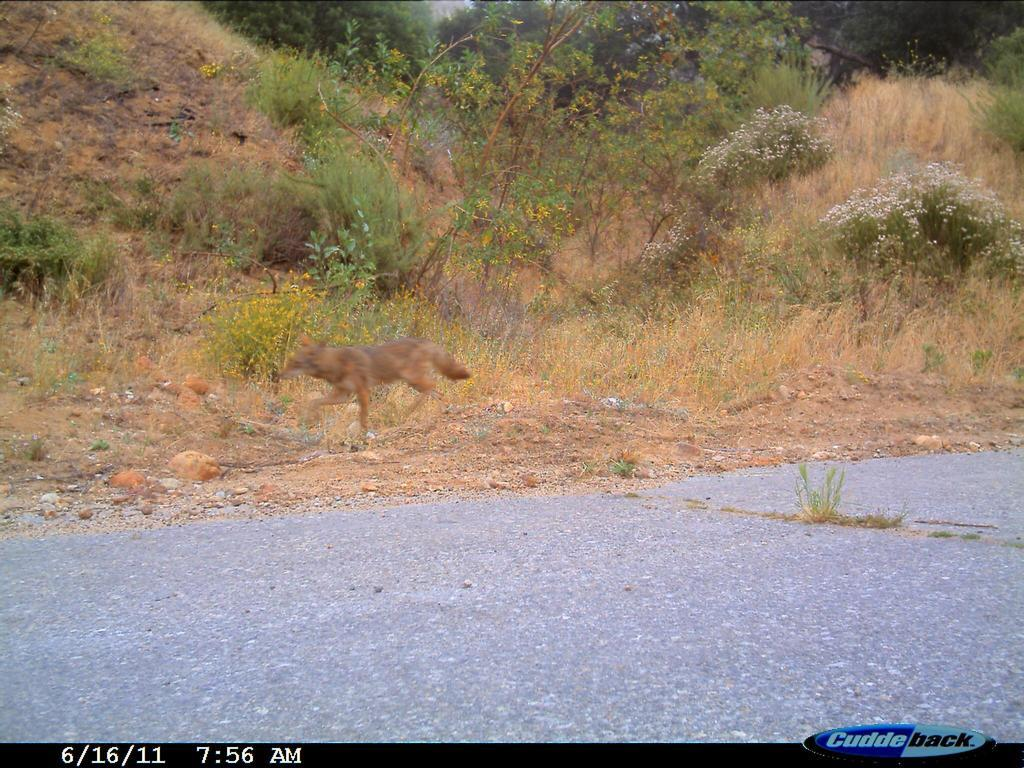coyote: (269, 324, 482, 459)
